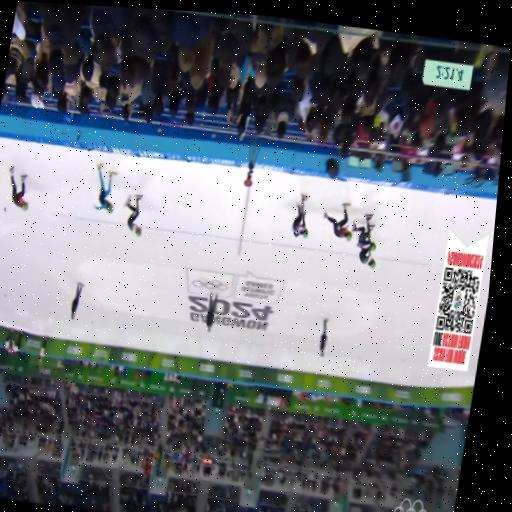Skater: (323, 203, 351, 240), (96, 162, 116, 213), (353, 214, 376, 251), (10, 166, 28, 210), (126, 194, 143, 235), (292, 194, 308, 237), (359, 246, 376, 268)
